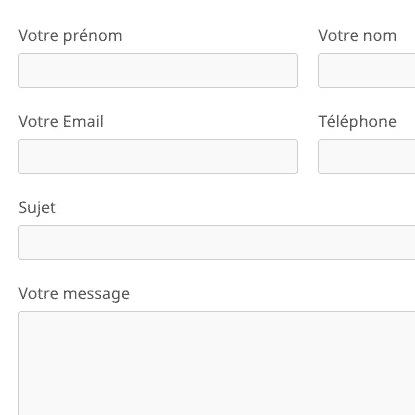field: (17, 51, 299, 90), (16, 138, 300, 175)
field_with_label: (14, 27, 303, 92), (13, 115, 302, 177)
